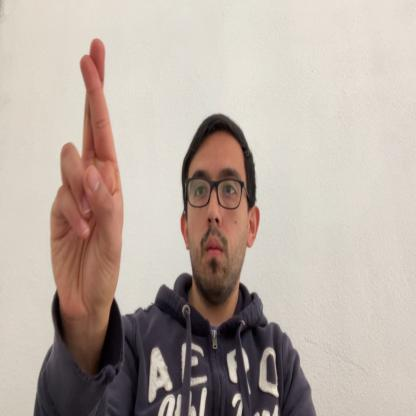R: (50, 39, 125, 337)
